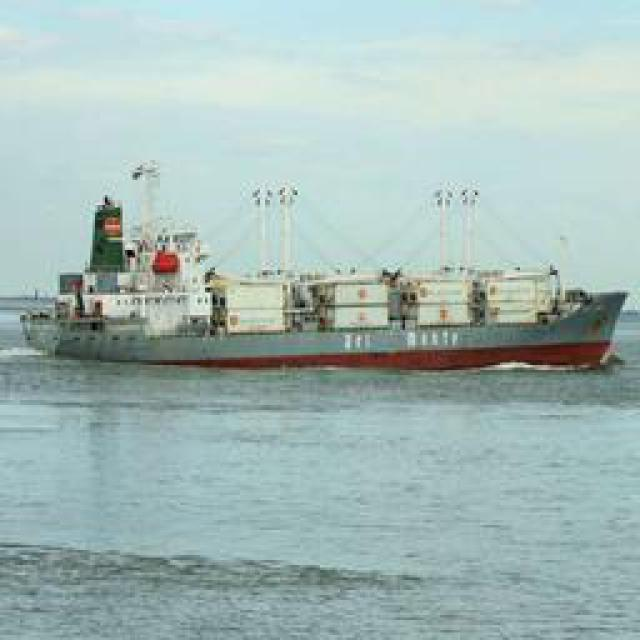Ship: (20, 167, 625, 380)
